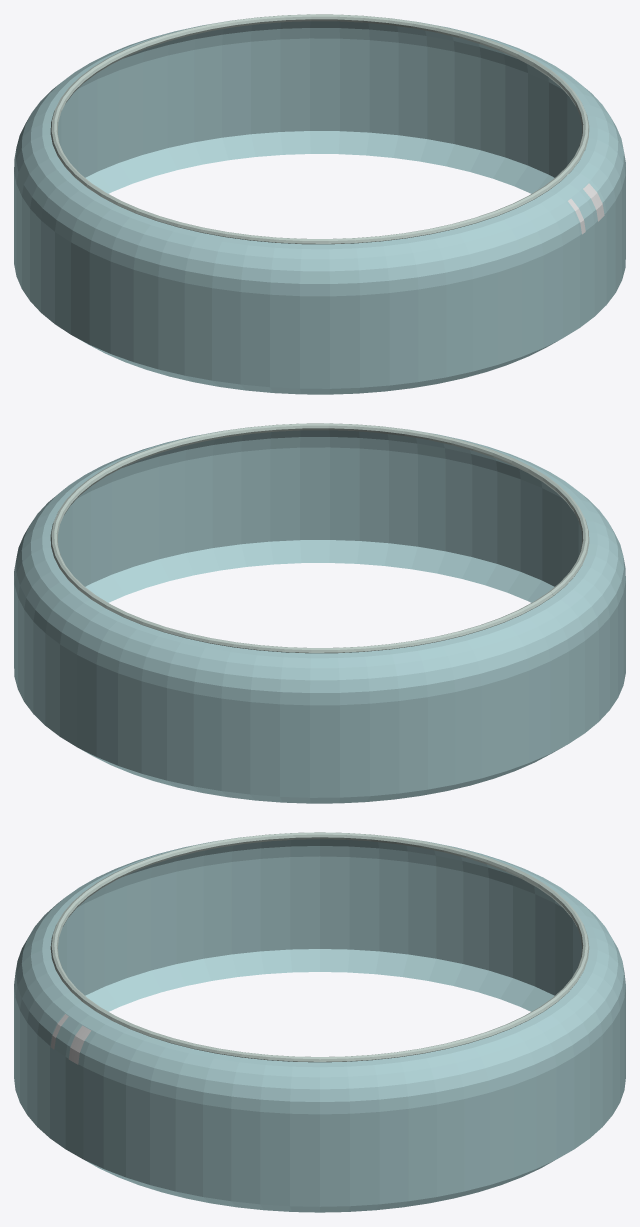
File: goo_jar_glass_2_mid.fbx
The picture shows the model from 3 angles, top to bottom: view 1: azimuth 30°, elevation 25°; view 2: azimuth 150°, elevation 25°; view 3: azimuth 270°, elevation 25°; orthographic projection.
Parts seen in each view (by area): view 1: goo_jar_glass_2_mid; view 2: goo_jar_glass_2_mid; view 3: goo_jar_glass_2_mid.
Part boxes in pixels (x1,y1,x2,y2): goo_jar_glass_2_mid: [14, 14, 625, 394]; goo_jar_glass_2_mid: [14, 423, 625, 803]; goo_jar_glass_2_mid: [14, 832, 625, 1212].
Size of the model in its own units: 54 by 14.32 by 54.
